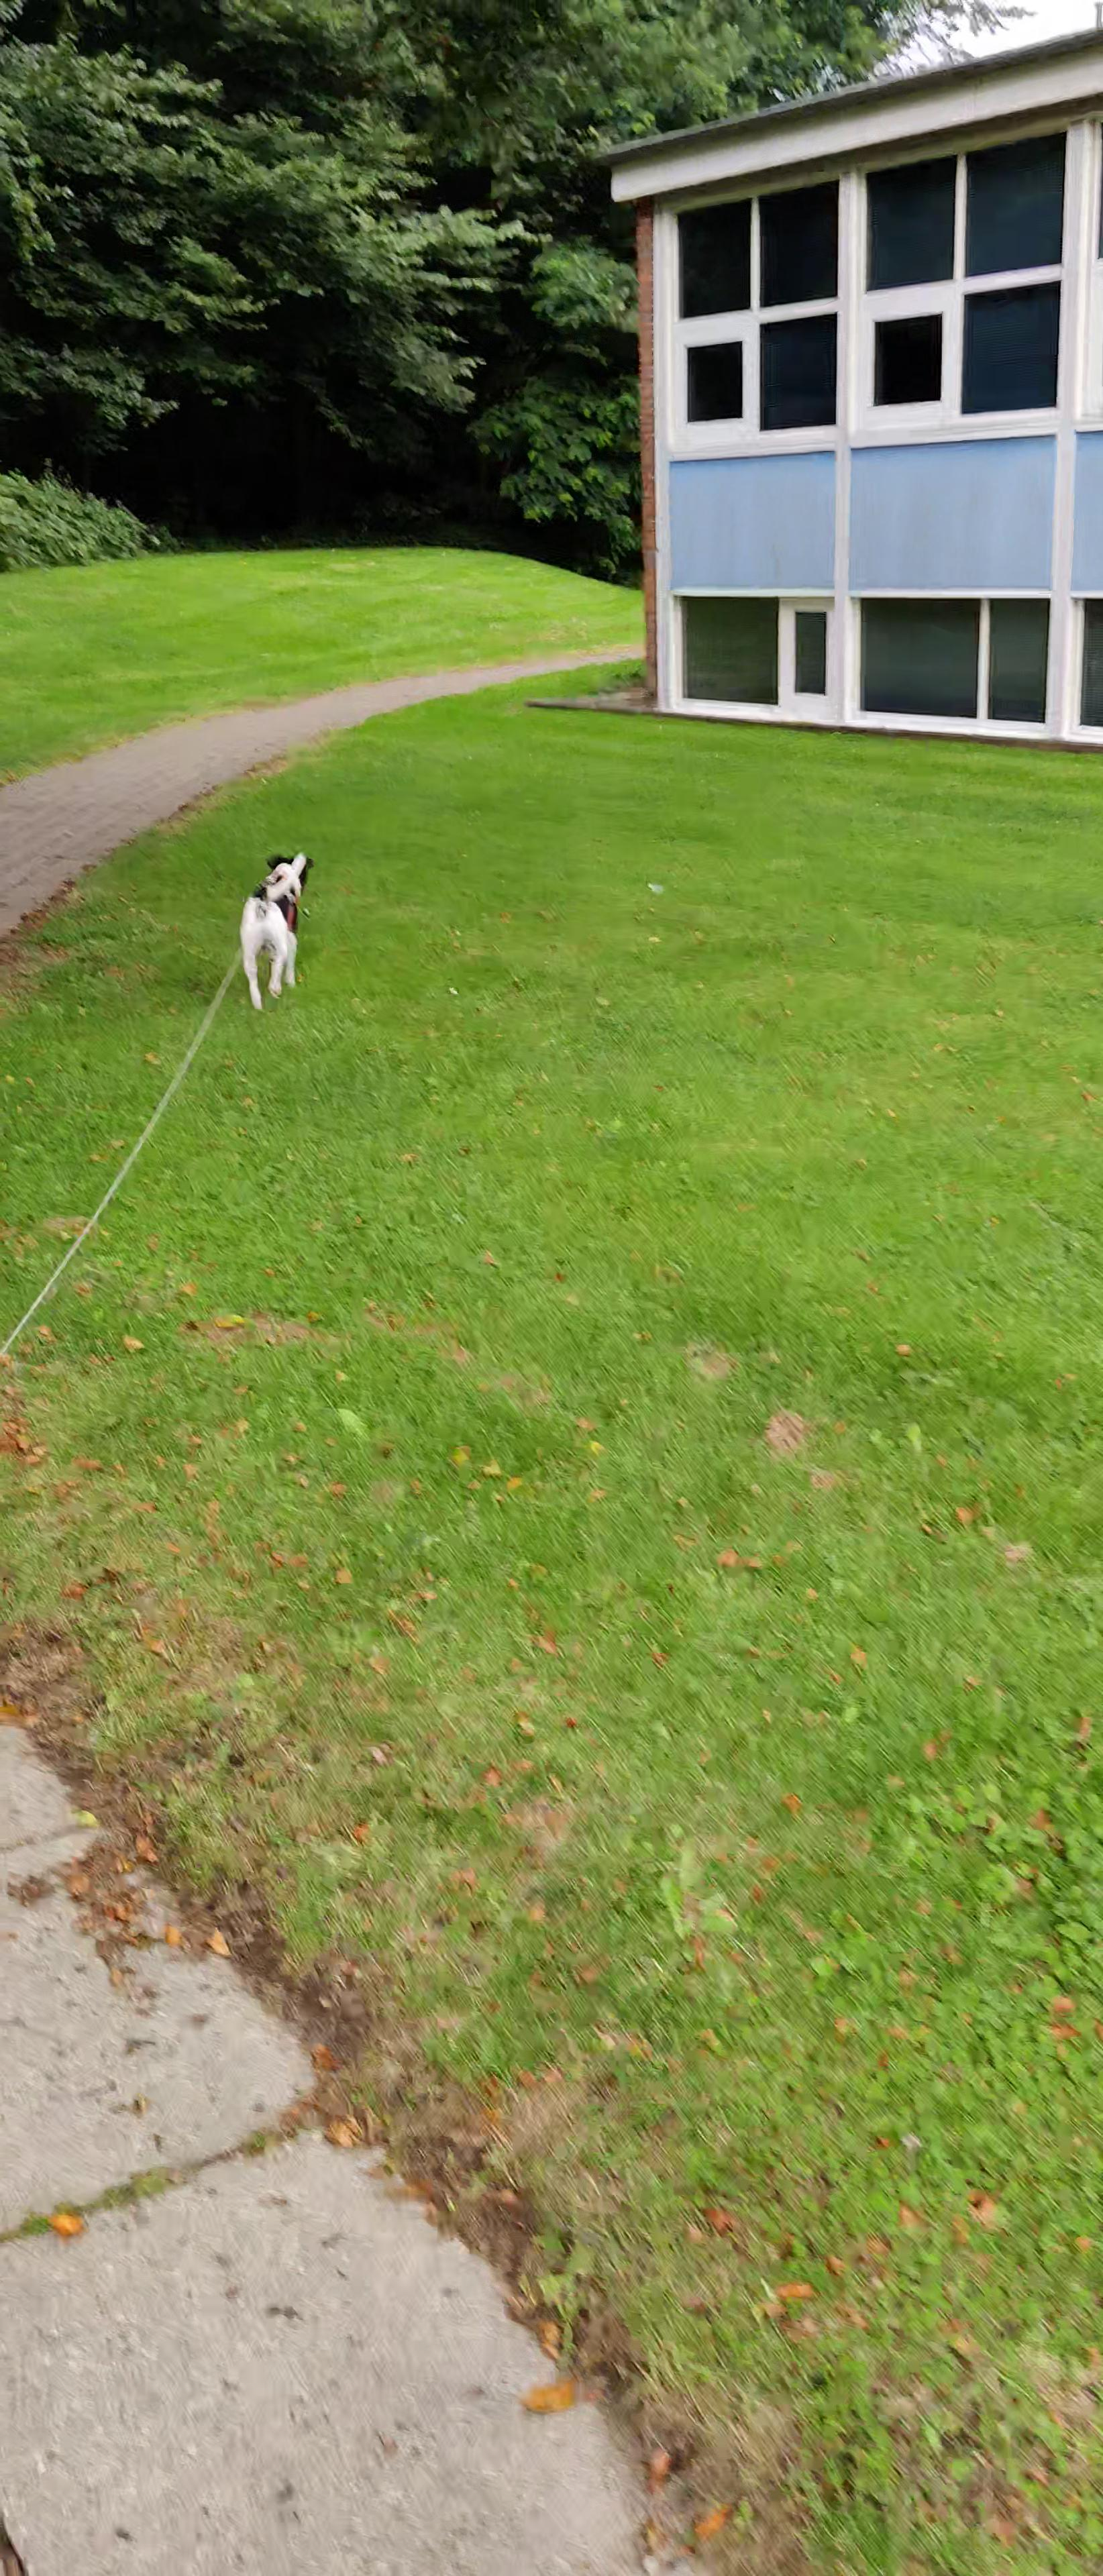Dog: (233, 846, 319, 1012)
